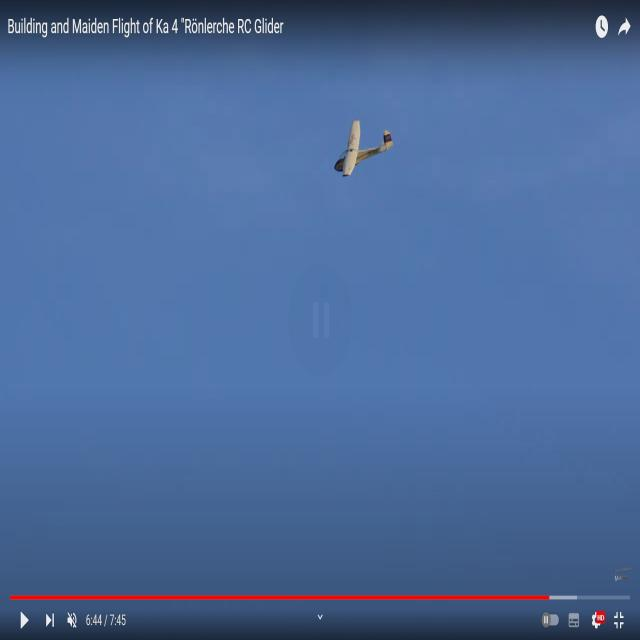iha: (333, 120, 393, 177)
